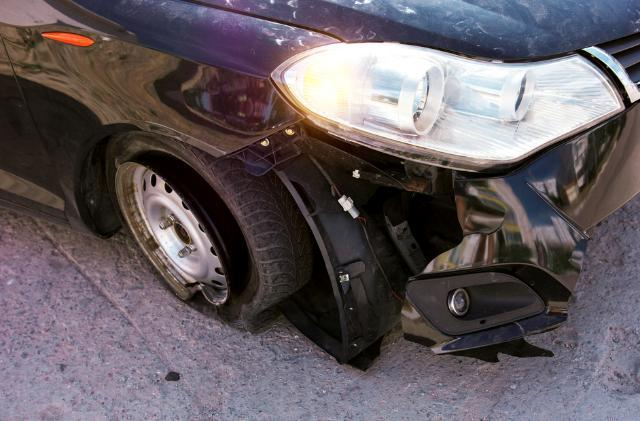Bumper: (231, 112, 640, 373)
